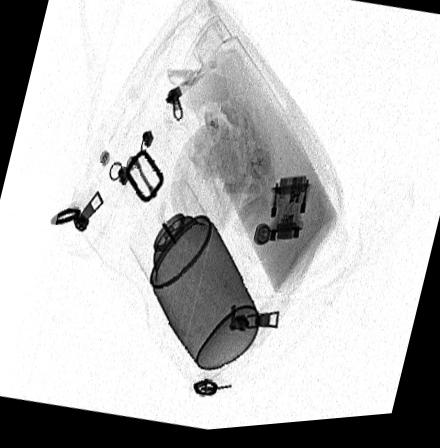Sprayer: (130, 182, 259, 372)
